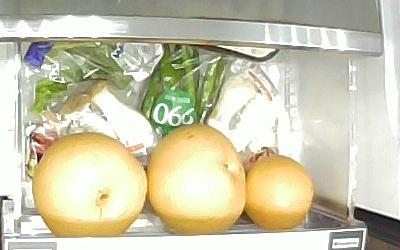pear: (33, 133, 147, 236), (149, 125, 245, 236), (245, 154, 316, 232)
